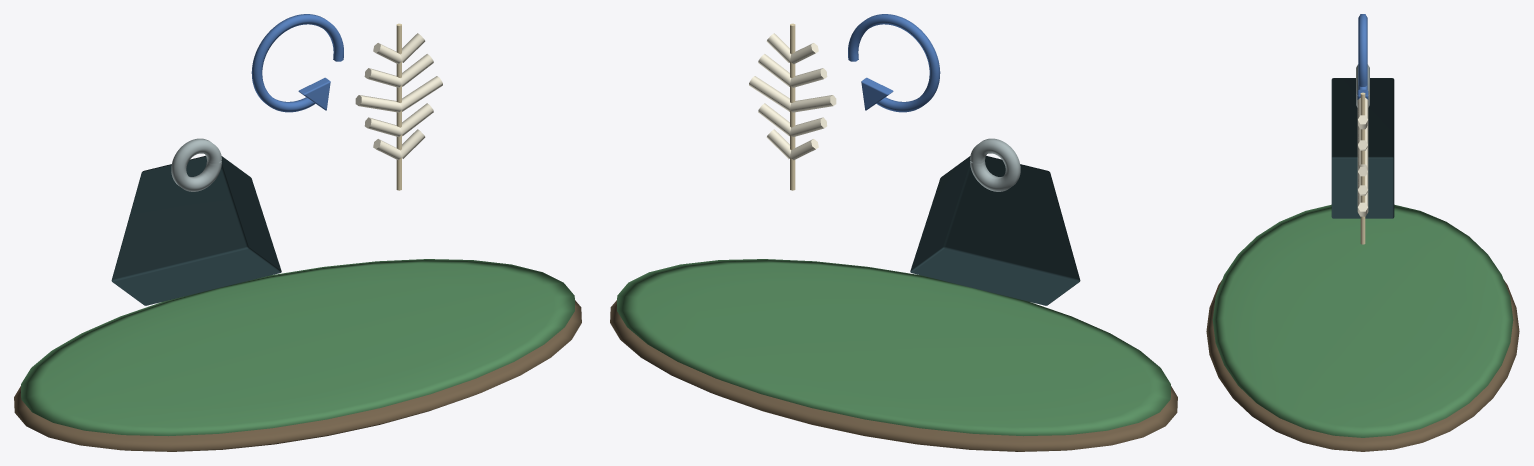
Rendered from complete-second-trained-wing.glb.
3 renders of one model, left to right at view 1: azimuth 30°, elevation 25°; view 2: azimuth 150°, elevation 25°; view 3: azimuth 270°, elevation 25°, orthographic. The views are drawn at different scales.
Visible parts, largest first — view 1: complete-second-trained-wing_surface_01, complete-second-trained-wing_surface_02, complete-second-trained-wing_surface_00, complete-second-trained-wing_surface_05, complete-second-trained-wing_surface_06, complete-second-trained-wing_surface_03, complete-second-trained-wing_surface_04; view 2: complete-second-trained-wing_surface_01, complete-second-trained-wing_surface_02, complete-second-trained-wing_surface_00, complete-second-trained-wing_surface_05, complete-second-trained-wing_surface_06, complete-second-trained-wing_surface_03, complete-second-trained-wing_surface_04; view 3: complete-second-trained-wing_surface_01, complete-second-trained-wing_surface_02, complete-second-trained-wing_surface_00, complete-second-trained-wing_surface_05, complete-second-trained-wing_surface_06, complete-second-trained-wing_surface_04.
Part boxes in pixels (left/top/right/bottom): complete-second-trained-wing_surface_01: left=21, top=259, right=574, bottom=436; complete-second-trained-wing_surface_02: left=111, top=155, right=281, bottom=305; complete-second-trained-wing_surface_00: left=14, top=300, right=581, bottom=451; complete-second-trained-wing_surface_05: left=355, top=33, right=442, bottom=160; complete-second-trained-wing_surface_06: left=251, top=14, right=343, bottom=112; complete-second-trained-wing_surface_03: left=171, top=138, right=221, bottom=191; complete-second-trained-wing_surface_04: left=396, top=23, right=401, bottom=190; complete-second-trained-wing_surface_01: left=617, top=259, right=1170, bottom=436; complete-second-trained-wing_surface_02: left=910, top=155, right=1080, bottom=305; complete-second-trained-wing_surface_00: left=610, top=300, right=1177, bottom=451; complete-second-trained-wing_surface_05: left=749, top=33, right=836, bottom=160; complete-second-trained-wing_surface_06: left=848, top=14, right=940, bottom=112; complete-second-trained-wing_surface_03: left=970, top=138, right=1020, bottom=191; complete-second-trained-wing_surface_04: left=790, top=23, right=795, bottom=190; complete-second-trained-wing_surface_01: left=1212, top=204, right=1513, bottom=437; complete-second-trained-wing_surface_02: left=1331, top=78, right=1394, bottom=218; complete-second-trained-wing_surface_00: left=1206, top=280, right=1519, bottom=451; complete-second-trained-wing_surface_05: left=1357, top=98, right=1368, bottom=216; complete-second-trained-wing_surface_06: left=1357, top=14, right=1368, bottom=99; complete-second-trained-wing_surface_04: left=1360, top=92, right=1365, bottom=244.
Size of the model in its own units: 4.56 by 2.89 by 2.5.
